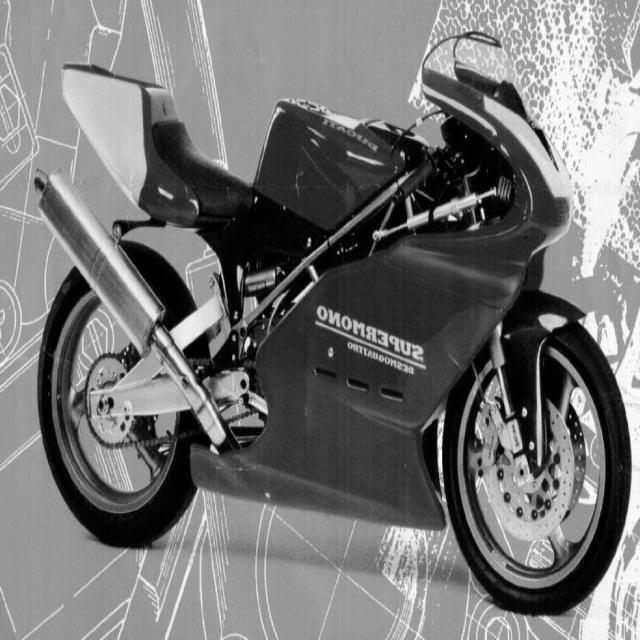Motorcycle: (34, 31, 631, 614)
